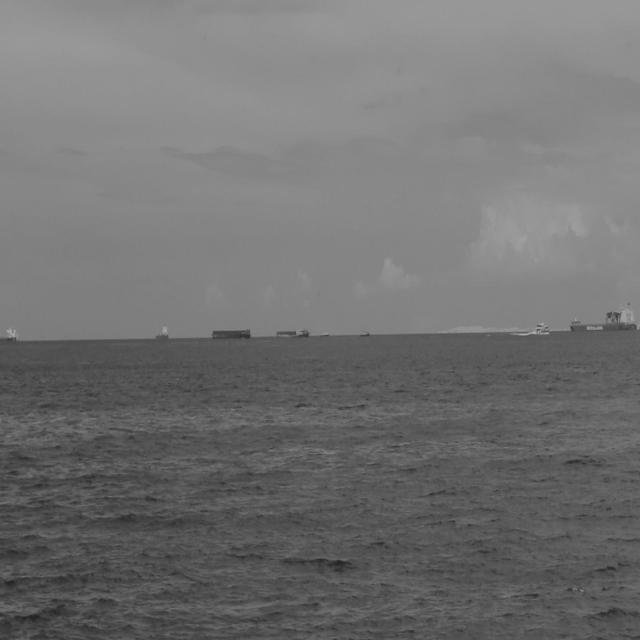ship: (569, 302, 638, 332), (273, 324, 310, 339), (1, 324, 20, 342), (155, 320, 171, 340), (533, 320, 550, 336)
